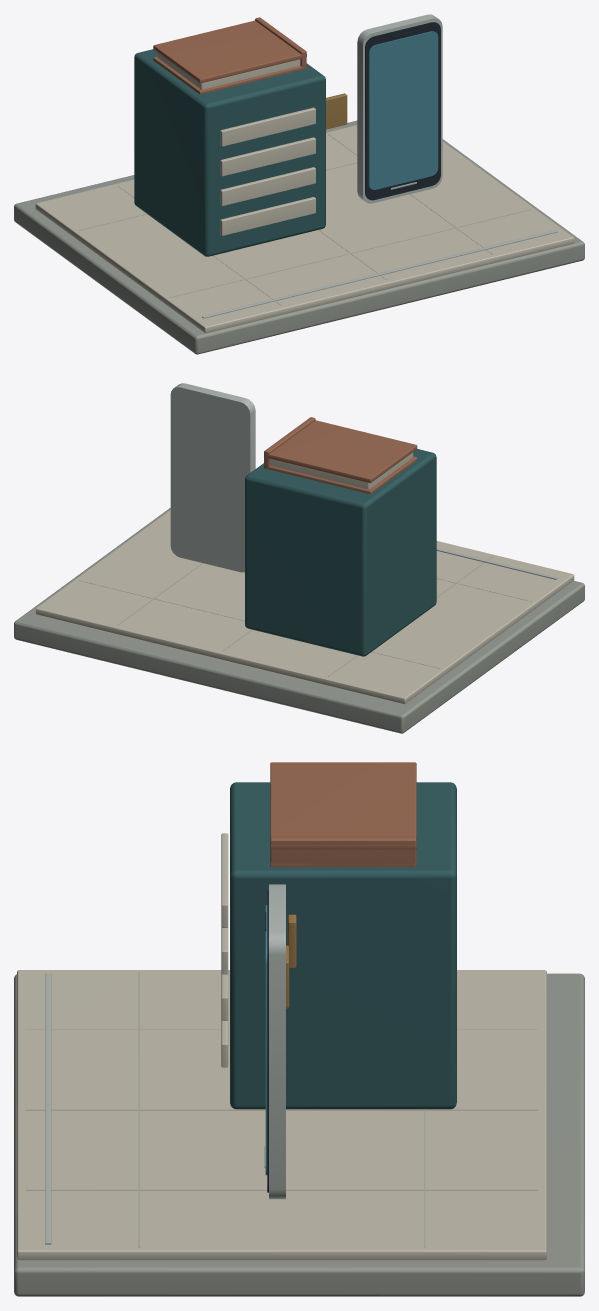
The model's file is idea-c7325407.glb.
3 renders of one model, top to bottom at view 1: azimuth 30°, elevation 25°; view 2: azimuth 150°, elevation 25°; view 3: azimuth 270°, elevation 25°, orthographic. The views are drawn at different scales.
Parts seen in each view (by area): view 1: Karmic Capture / Memory; view 2: Karmic Capture / Memory; view 3: Karmic Capture / Memory.
Part boxes in pixels (x1=…): Karmic Capture / Memory: x1=14, y1=14, x2=584, y2=354; Karmic Capture / Memory: x1=14, y1=383, x2=584, y2=733; Karmic Capture / Memory: x1=14, y1=762, x2=584, y2=1296.
Size of the model in its own units: 4.8 by 2.35 by 3.9.
